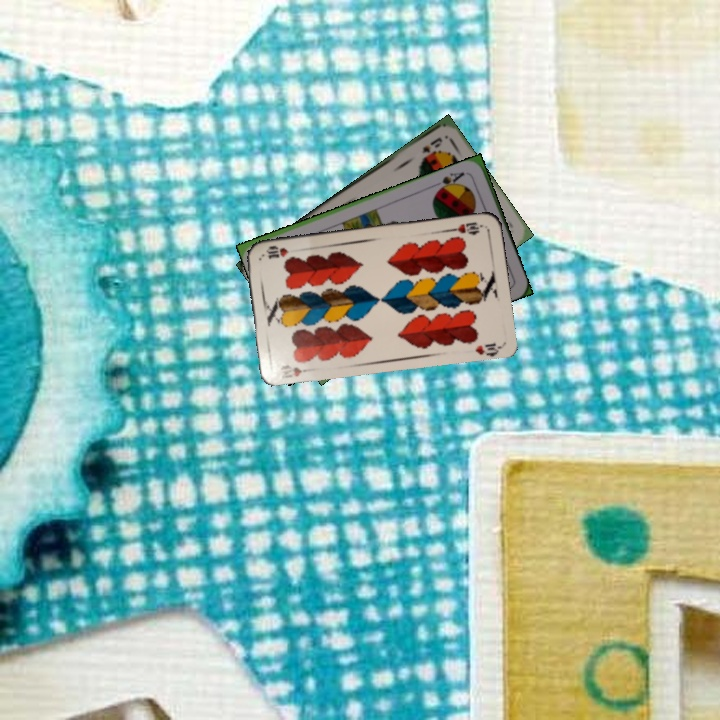H10: (277, 361, 314, 381), (446, 218, 486, 236)
SA: (433, 168, 470, 194)
SO: (418, 133, 445, 156)
